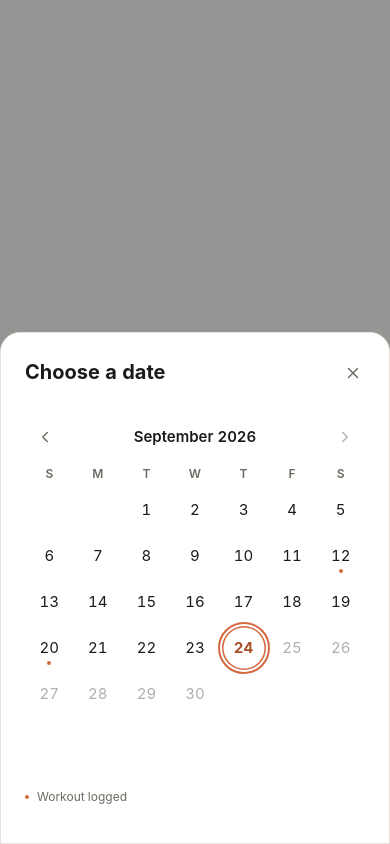
Test: DatePickerSheet › pages months with the chevrons, and stops at both bounds
Expected: the button named "Next month" is disabled, [325, 417, 365, 457]
Click the button named "Previous month": (45, 437) [25, 417, 65, 457]
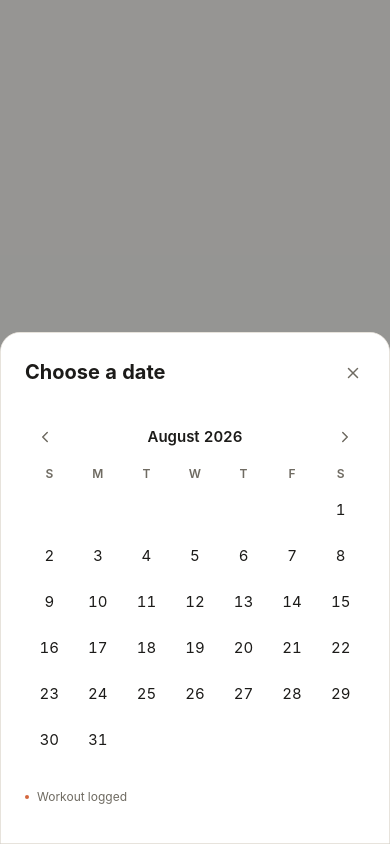
Now the heading "August 2026" is shown, box [148, 427, 242, 446]
Click the button named "Previous month": (45, 437) [25, 417, 65, 457]
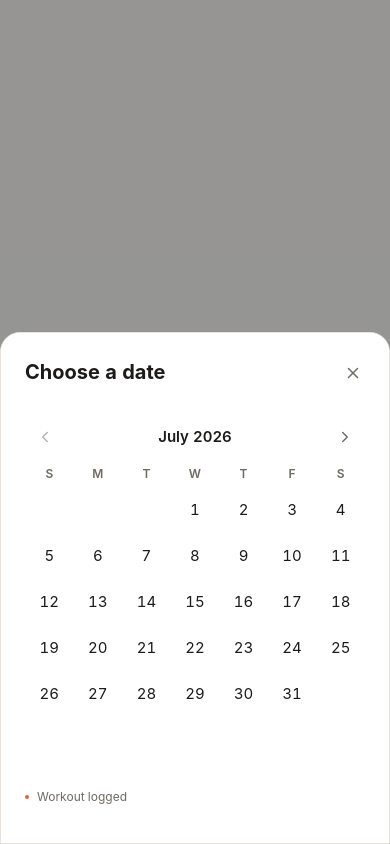
Now the heading "July 2026" is shown, box [158, 427, 232, 446]
Click the button named "Next month": (345, 437) [325, 417, 365, 457]
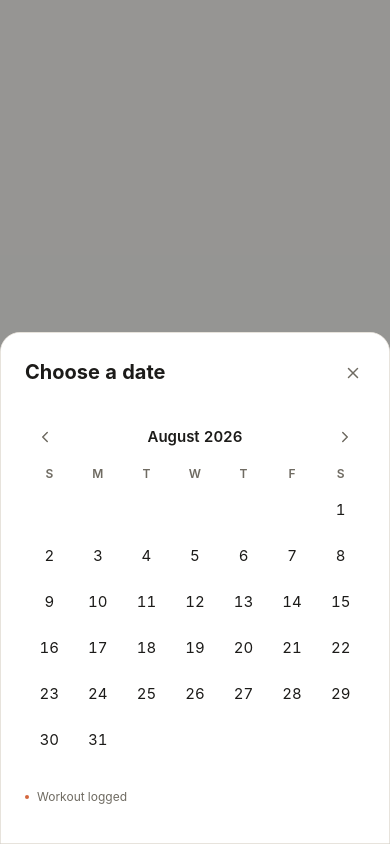
Now the heading "August 2026" is shown, box [148, 427, 242, 446]
